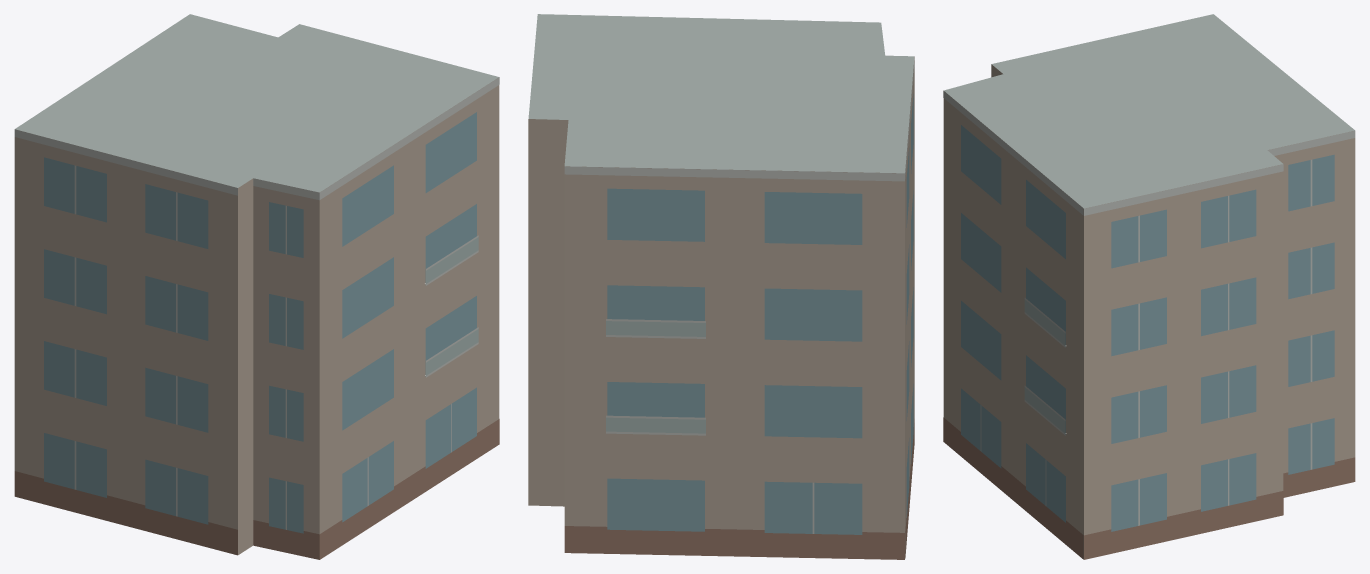
Rendered from survey-upis-32938557.glb.
3 views of the same model, side by side, from view 1: azimuth 30°, elevation 25°; view 2: azimuth 150°, elevation 25°; view 3: azimuth 270°, elevation 25° (orthographic). The views are drawn at different scales.
Parts seen in each view (by area): view 1: survey-upis-32938557.tmp; view 2: survey-upis-32938557.tmp; view 3: survey-upis-32938557.tmp.
Part boxes in pixels (left/top/right/bottom): survey-upis-32938557.tmp: left=14, top=14, right=499, bottom=559; survey-upis-32938557.tmp: left=528, top=14, right=914, bottom=559; survey-upis-32938557.tmp: left=943, top=14, right=1355, bottom=559.
Bounding box in the file's own units: 13.79 × 11.6 × 12.33.
